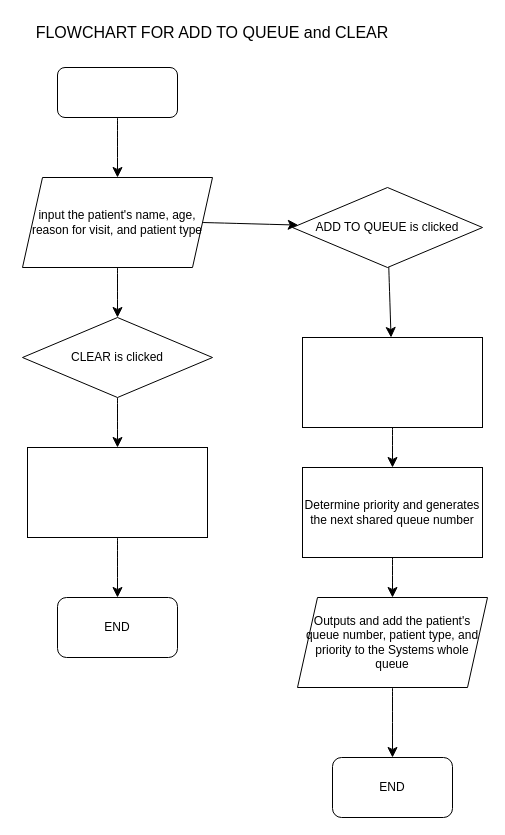
The diagram is 505 pixels wide and 835 high, and some of its shapes have lost their labels. Each missing label, with the centre of its shape:
Clear the data from the textbox or input fields: the point at 117,492
Process Patient's name, age, reason for visit, and patient type: the point at 392,382
START: the point at 117,92
